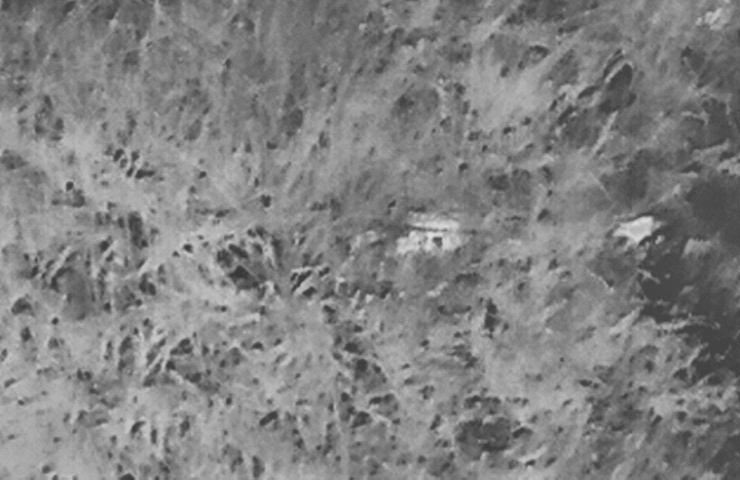landmines: (387, 204, 488, 302)
